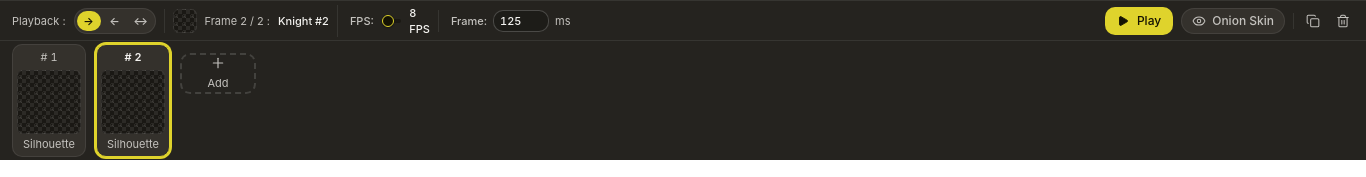
Test: TimelineStrip › commits a typed duration on Enter, clamped, to the open frame
The image size is (1366, 177).
Replace the text in the field named "milliseconds" with "99999". click: (521, 20)
box: [493,10,549,32]
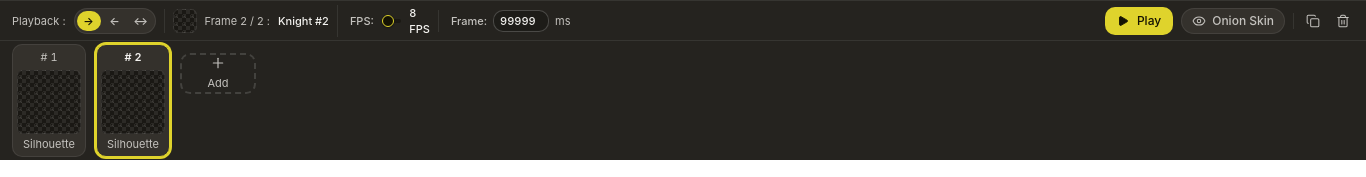
Press Enter in the field named "milliseconds", box [493,10,549,32]
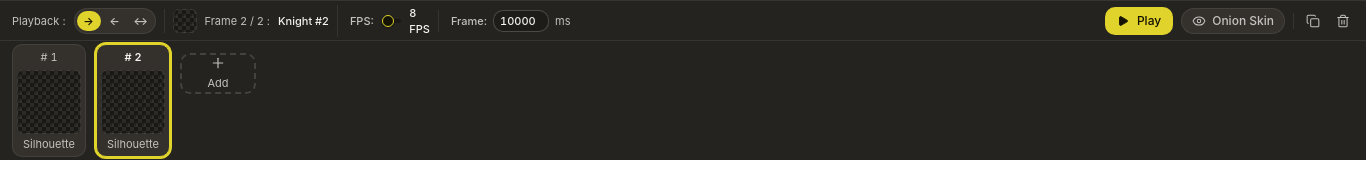
Result: the field named "milliseconds" holds "10000" at [493,10,549,32]
